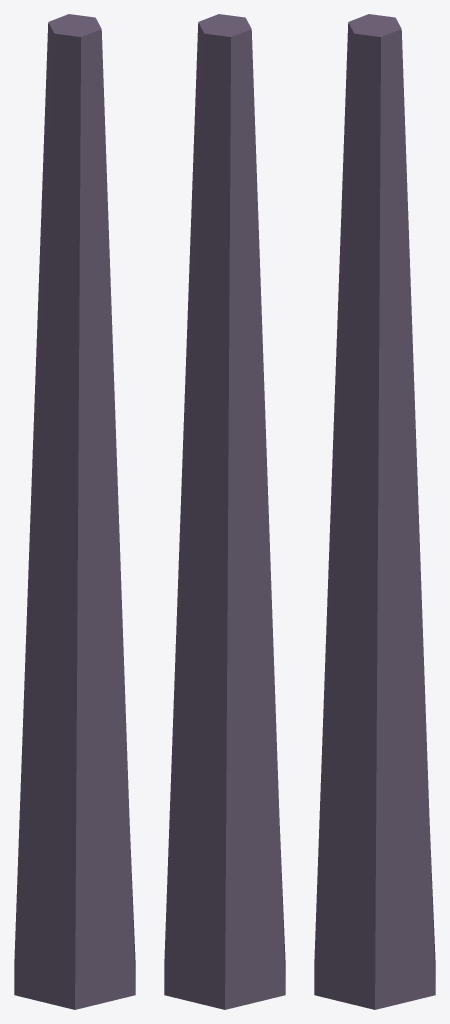
3 views of the same model, side by side, from view 1: azimuth 30°, elevation 25°; view 2: azimuth 150°, elevation 25°; view 3: azimuth 330°, elevation 25° (orthographic).
Parts seen in each view (by area): view 1: 雪松树干_1.001; view 2: 雪松树干_1.001; view 3: 雪松树干_1.001.
Part boxes in pixels (x1,y1,x2,y2): 雪松树干_1.001: [14, 14, 135, 1009]; 雪松树干_1.001: [164, 14, 285, 1009]; 雪松树干_1.001: [314, 14, 435, 1009].
Size of the model in its own units: 0.1152 by 0.8652 by 0.0998.
